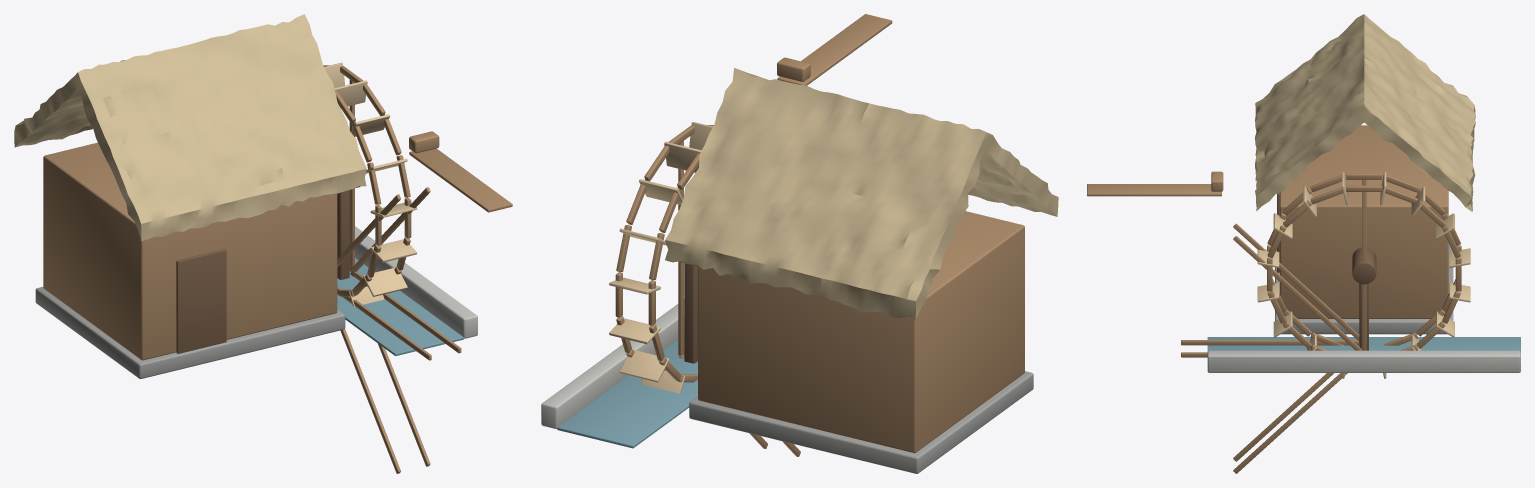
Rendered from suisha.glb.
3 renders of one model, left to right at view 1: azimuth 30°, elevation 25°; view 2: azimuth 150°, elevation 25°; view 3: azimuth 270°, elevation 25°, orthographic. The views are drawn at different scales.
Visible parts, largest first — view 1: suisha_body, suisha_wheel; view 2: suisha_body, suisha_wheel; view 3: suisha_body, suisha_wheel.
Boxes of the visible parts, x1,y1,x2,y2 form: suisha_body: (14, 14, 512, 378); suisha_wheel: (323, 62, 461, 473); suisha_body: (541, 14, 1058, 473); suisha_wheel: (609, 122, 800, 456); suisha_body: (1087, 14, 1520, 372); suisha_wheel: (1181, 172, 1470, 473).
Bounding box in the file's own units: 6.35 × 7.96 × 9.
